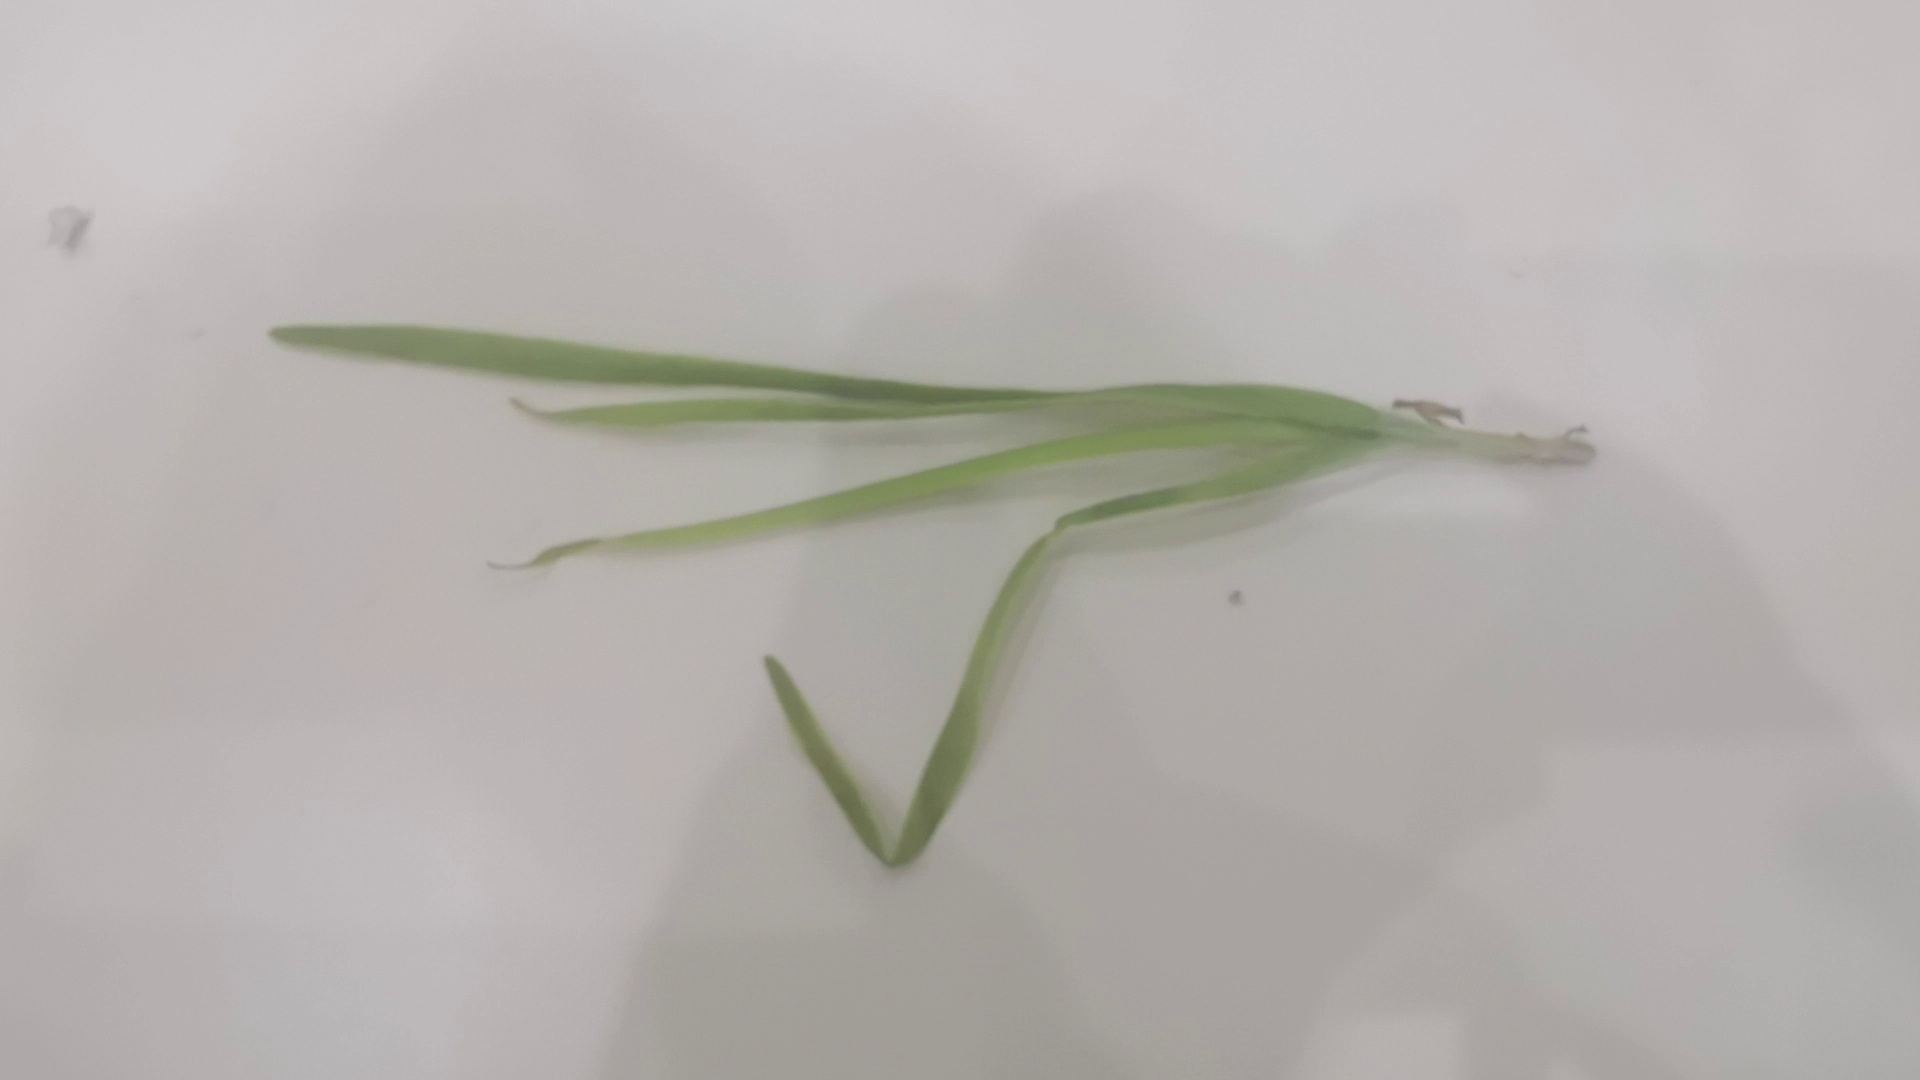chives: (266, 316, 1615, 934)
